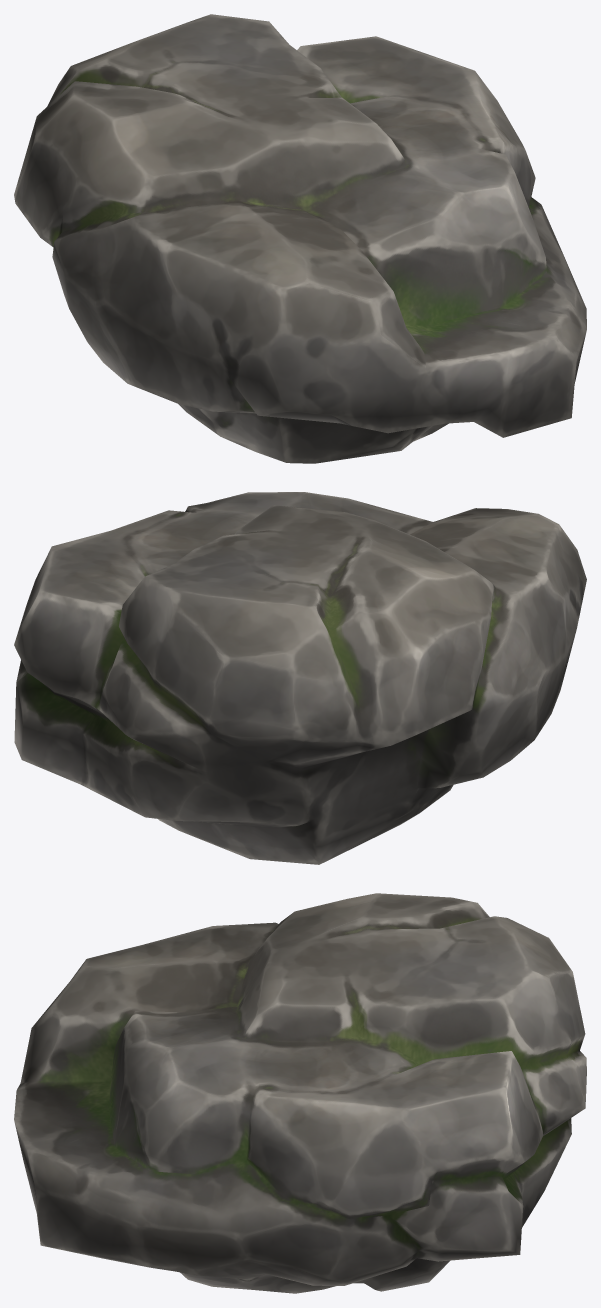
Rendered from Rock_Big.fbx.
The picture shows the model from 3 angles, top to bottom: view 1: azimuth 30°, elevation 25°; view 2: azimuth 150°, elevation 25°; view 3: azimuth 270°, elevation 25°; orthographic projection. The views are drawn at different scales.
Parts seen in each view (by area): view 1: Rock_Big; view 2: Rock_Big; view 3: Rock_Big.
Boxes of the visible parts, x1,y1,x2,y2 form: Rock_Big: [14, 14, 586, 463]; Rock_Big: [14, 492, 586, 864]; Rock_Big: [14, 893, 586, 1293].
Size of the model in its own units: 36.82 by 23.85 by 41.4.
